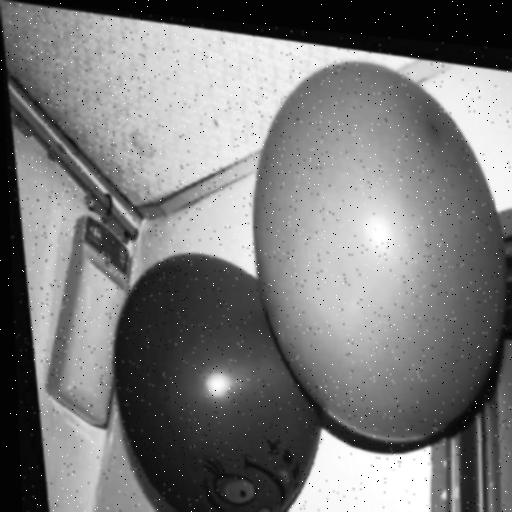balloon: (217, 32, 512, 458), (84, 237, 347, 512)
